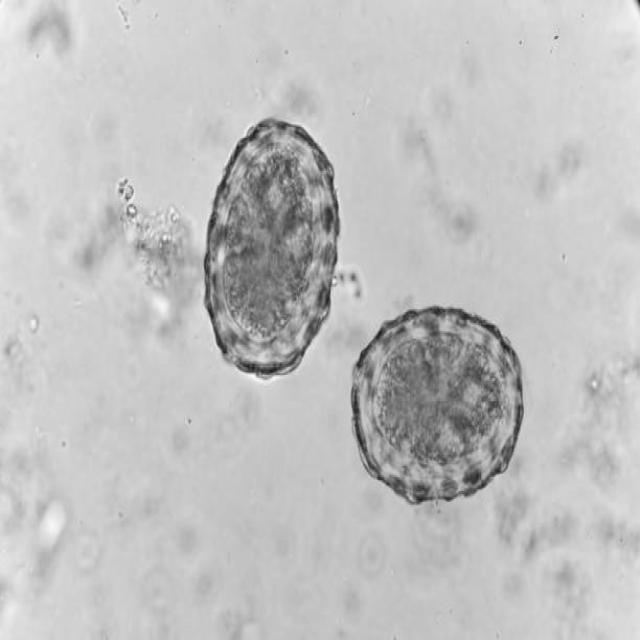Ascaris Lumbricoides: (199, 106, 346, 383), (348, 294, 526, 515)
